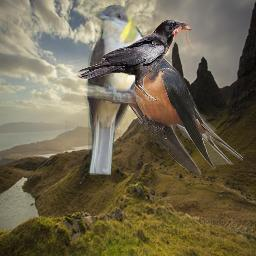Crow: (76, 17, 201, 101)
Cuckoo: (84, 5, 146, 175)
Swallow: (114, 44, 243, 175)
